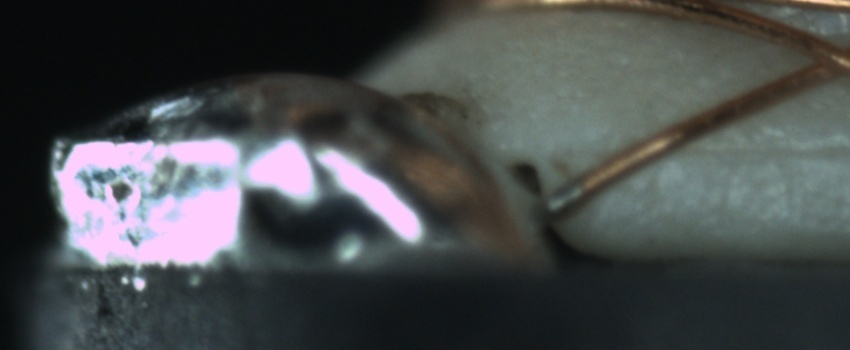CL: (782, 28, 848, 90)
DL: (673, 121, 848, 185)
TS: (541, 182, 587, 219)
